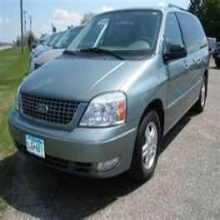no damage: (8, 7, 210, 183), (28, 26, 81, 67)
